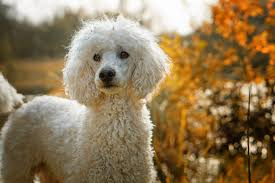Poodle: (6, 12, 172, 181)
